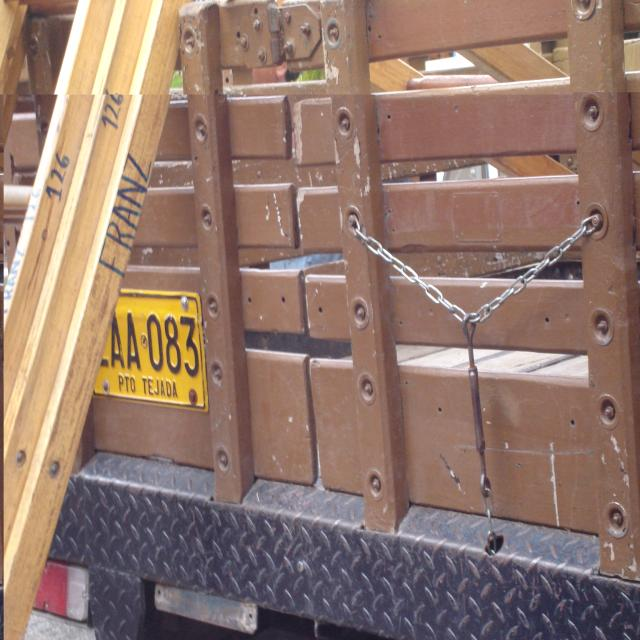placa: (78, 286, 211, 415)
